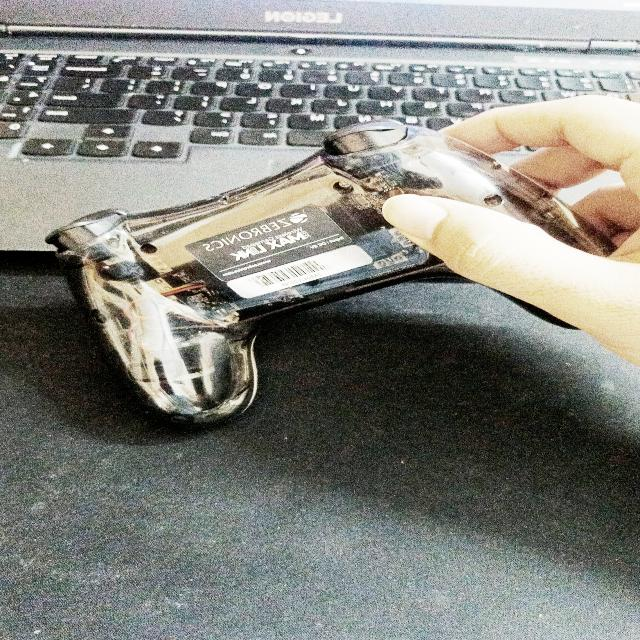gamepad: (45, 119, 618, 428)
